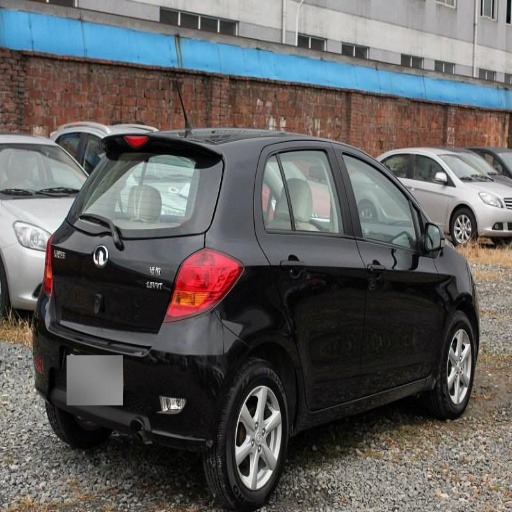back_bumper: (18, 284, 234, 447)
back_right_door: (259, 143, 368, 410)
tailgate: (88, 283, 169, 335)
trunk: (57, 227, 199, 328)
